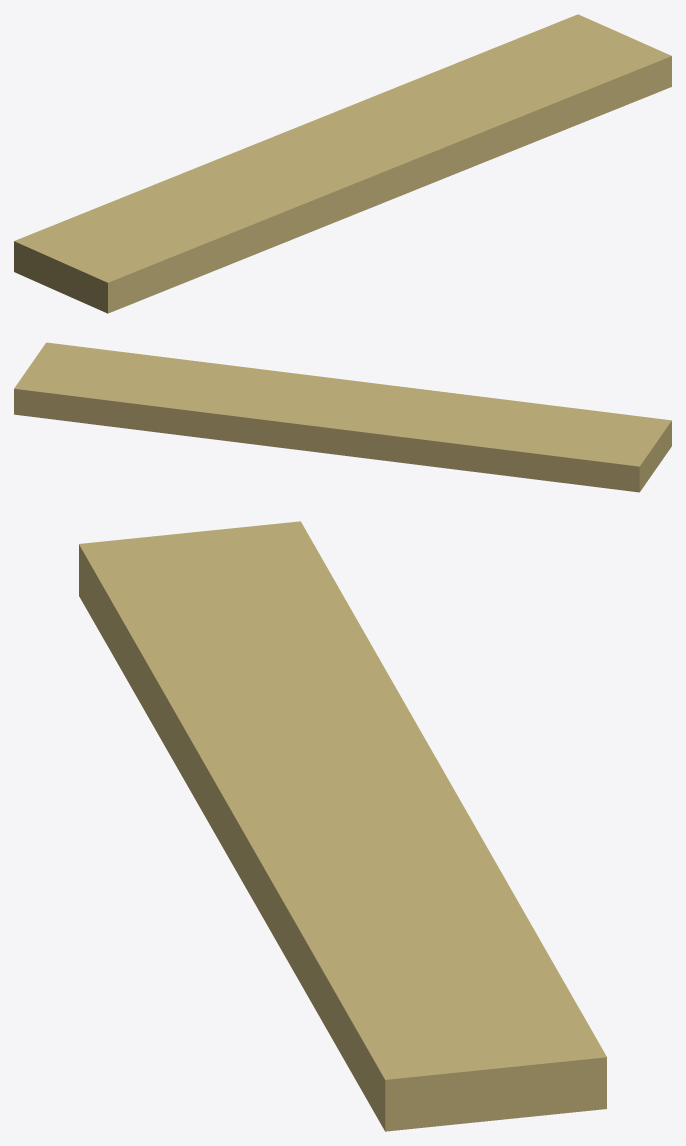
The picture shows the model from 3 angles, top to bottom: view 1: azimuth 30°, elevation 25°; view 2: azimuth 150°, elevation 25°; view 3: azimuth 270°, elevation 25°; orthographic projection. The views are drawn at different scales.
Visible parts, largest first — view 1: RUN-018-S01-ribbon; view 2: RUN-018-S01-ribbon; view 3: RUN-018-S01-ribbon.
Boxes of the visible parts, <box> form: RUN-018-S01-ribbon: <box>14,14,671,313</box>; RUN-018-S01-ribbon: <box>14,342,671,492</box>; RUN-018-S01-ribbon: <box>79,521,606,1131</box>.
Bounding box in the file's own units: 0.8105 × 0.035 × 0.3239.
